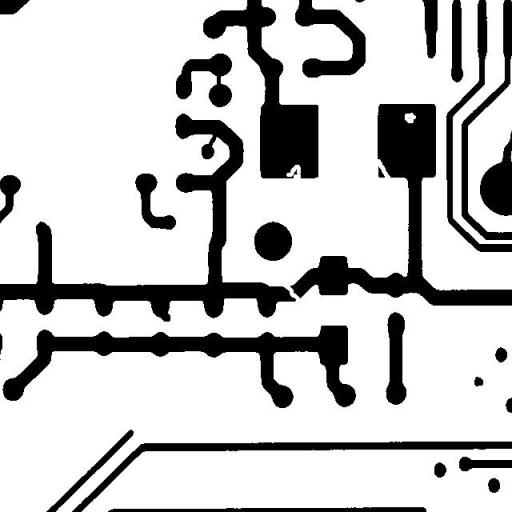copper: (466, 368, 490, 394)
mousebite: (278, 156, 308, 190)
open: (270, 274, 308, 310), (368, 152, 398, 186)
pin-hole: (397, 105, 423, 130)
short: (198, 124, 226, 161), (205, 58, 228, 92)
spur: (151, 304, 178, 329)
